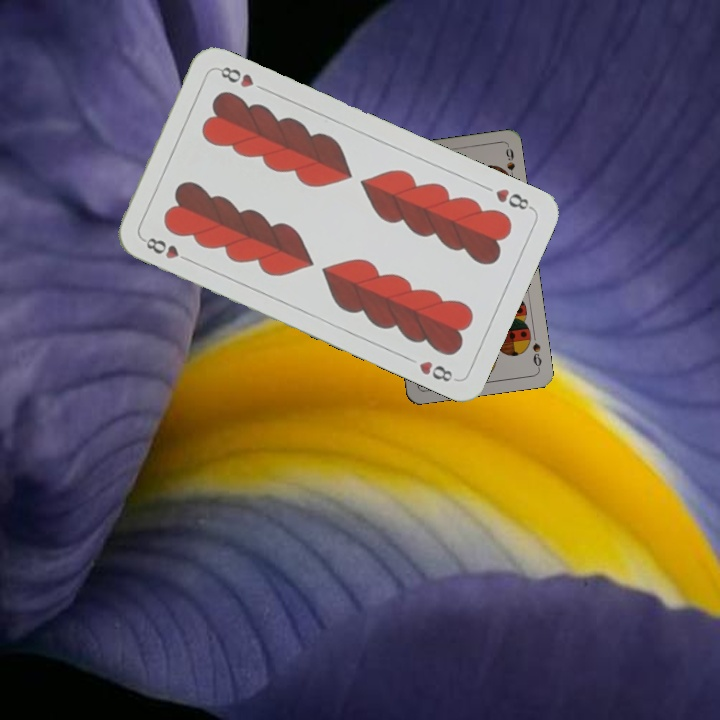H8: (138, 233, 195, 265), (491, 184, 536, 213)
S9: (528, 339, 544, 371)
